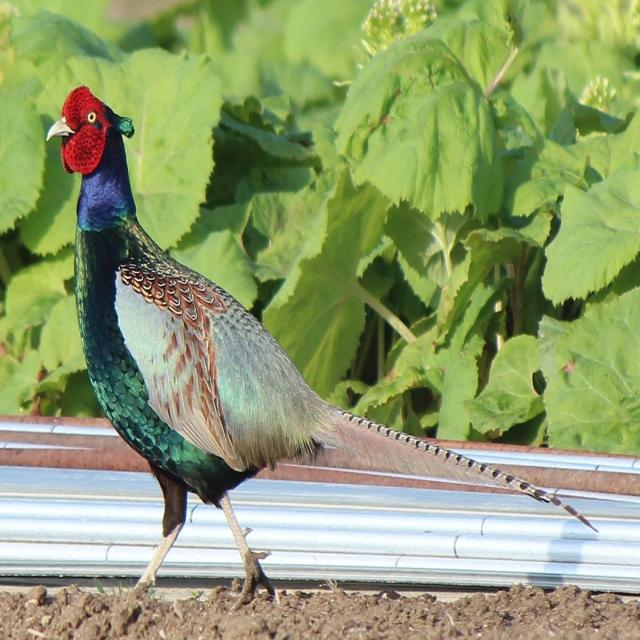bird: (42, 73, 608, 580)
